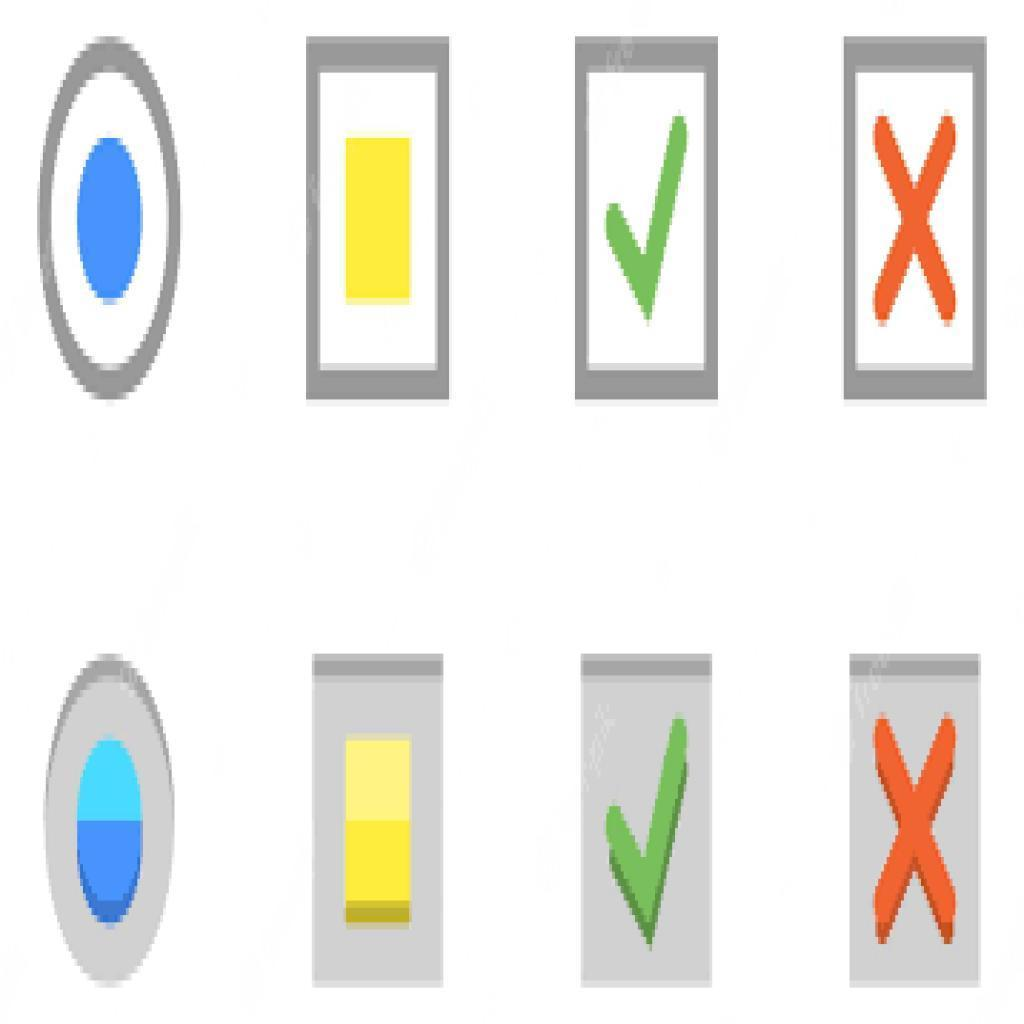checkbox: (585, 672, 716, 988), (855, 675, 982, 989), (317, 669, 441, 985), (852, 72, 975, 377), (586, 73, 706, 370), (319, 70, 438, 369)
radio: (39, 30, 184, 402), (41, 653, 176, 991)
